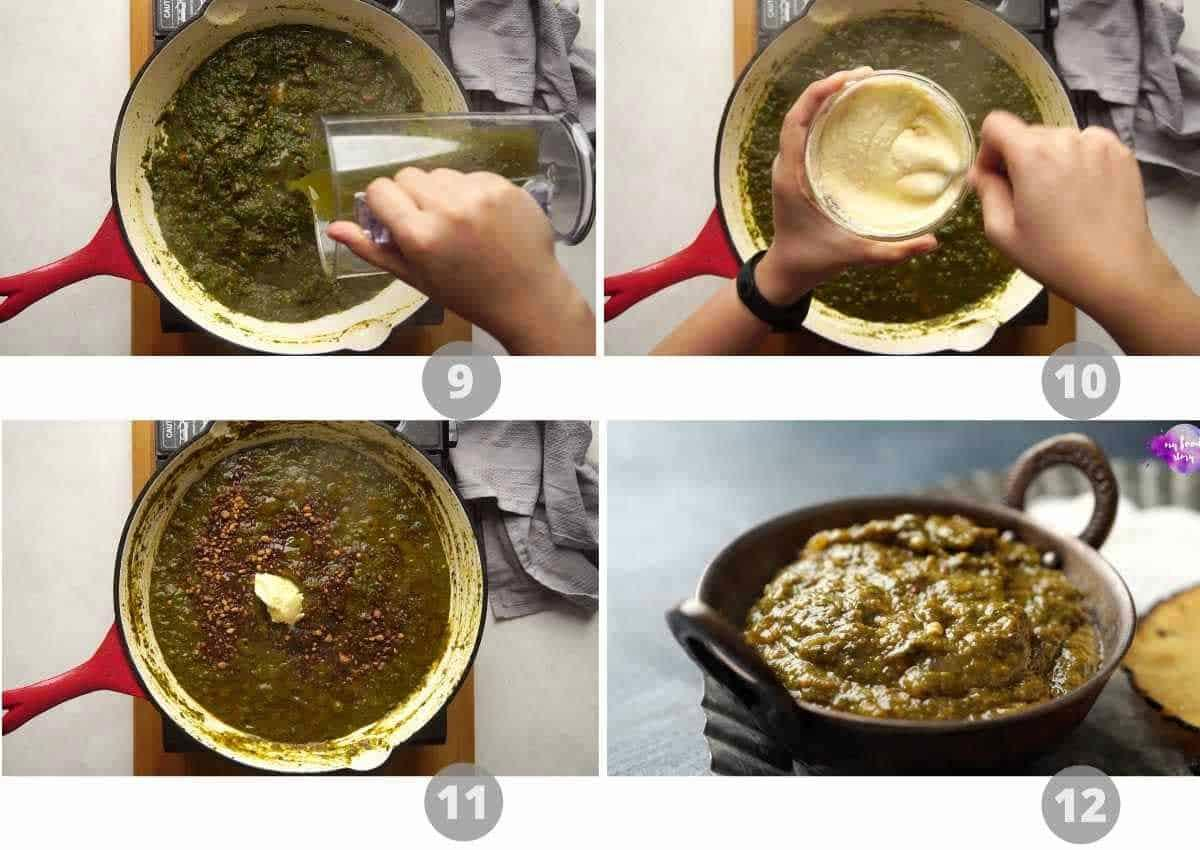saag: (773, 524, 1085, 710), (185, 482, 425, 705)
